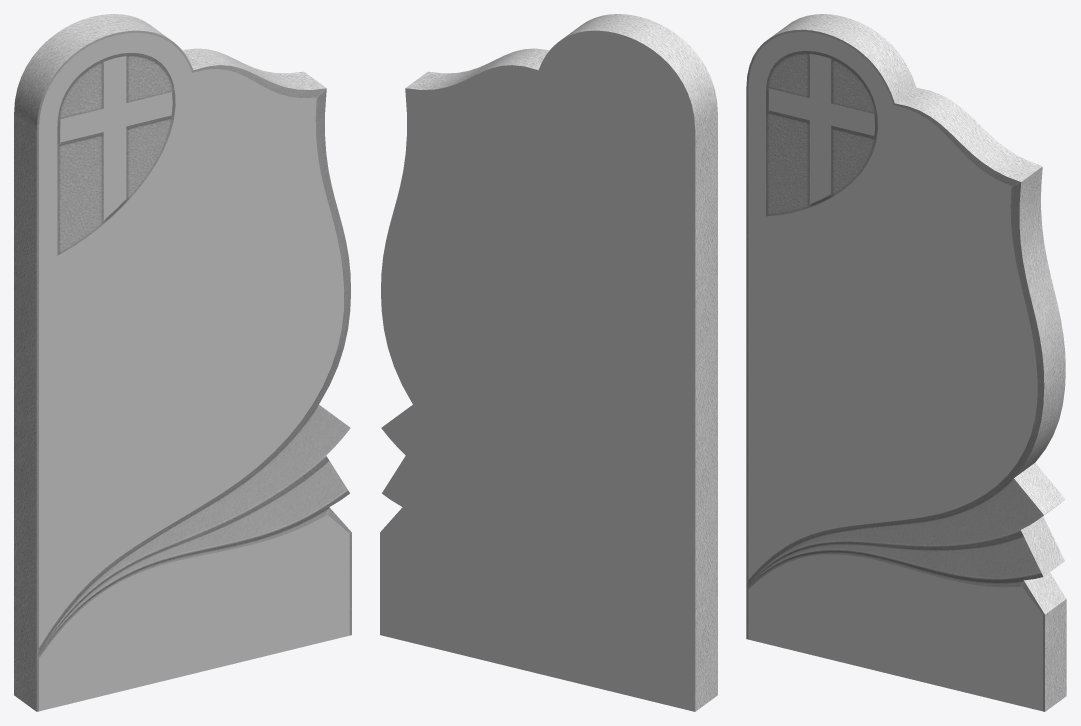
File: cne95b8fa09e_tkf.glb
3 views of the same model, side by side, from view 1: azimuth 30°, elevation 25°; view 2: azimuth 150°, elevation 25°; view 3: azimuth 330°, elevation 25° (orthographic). The views are drawn at different scales.
Visible parts, largest first — view 1: Pam-d03-193, Pam-d03-193_2_notexture; view 2: Pam-d03-193, Pam-d03-193_2_notexture; view 3: Pam-d03-193, Pam-d03-193_2_notexture.
Part boxes in pixels (bbox=[...]): Pam-d03-193: bbox=[39, 33, 349, 711]; Pam-d03-193_2_notexture: bbox=[14, 14, 351, 711]; Pam-d03-193: bbox=[380, 30, 695, 711]; Pam-d03-193_2_notexture: bbox=[405, 14, 717, 711]; Pam-d03-193: bbox=[748, 32, 1042, 711]; Pam-d03-193_2_notexture: bbox=[746, 14, 1066, 711].
Size of the model in its own units: 0.4 by 0.8 by 0.05.
1 material, 1 textured.
